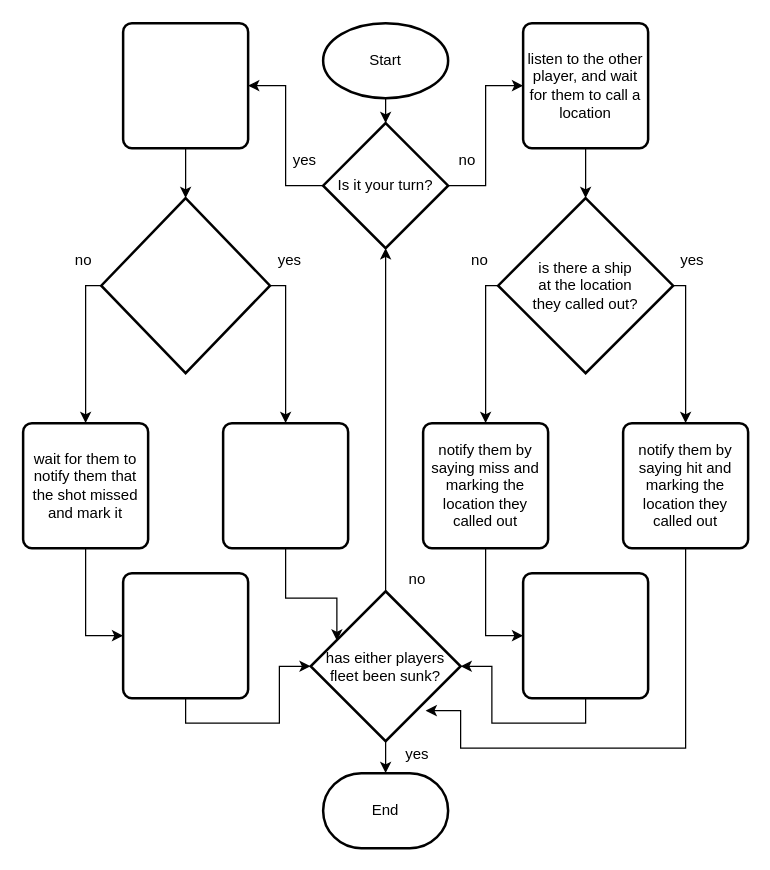
This 770x870 diagram has some shape labels left out. The shapes that lost their labels are listed below. From the top down, each one's centre as x and y in pixels, then its label:
At pixel 185 85: "call a number and a letter that matches the specific location you want".
At pixel 185 285: "is there a ship at the location you called out".
At pixel 285 485: "wait for them to notify you the shot was a hit and mark it".
At pixel 185 635: "it's now the other player's turn".
At pixel 585 635: "it's now your turn".
